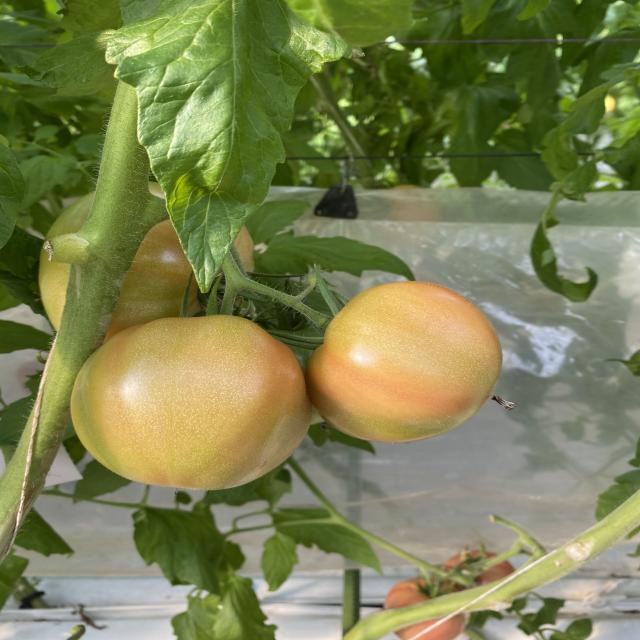sari: (85, 314, 372, 488), (317, 302, 518, 466)
